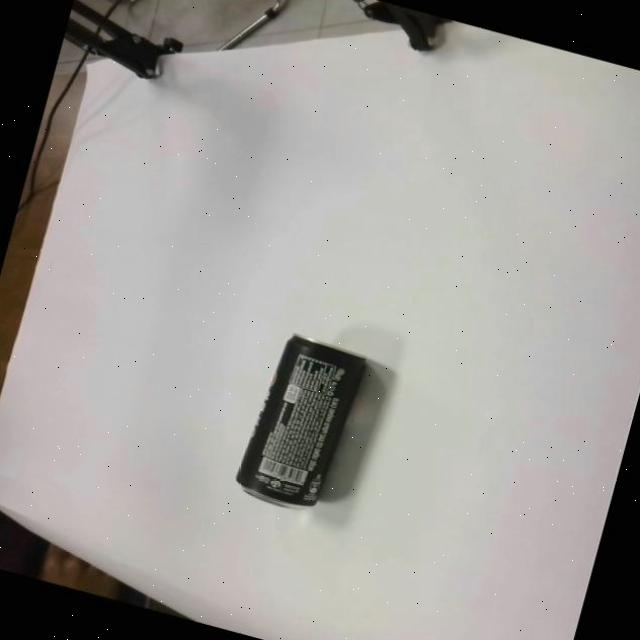debris: (230, 327, 400, 527)
